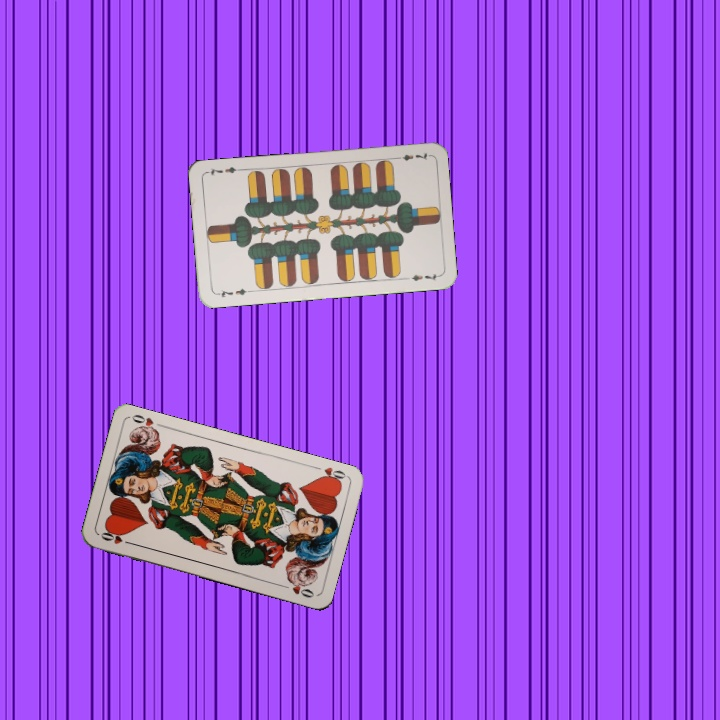E7: (213, 284, 253, 300), (391, 148, 431, 163)
HO: (315, 463, 349, 486), (97, 527, 135, 547)
